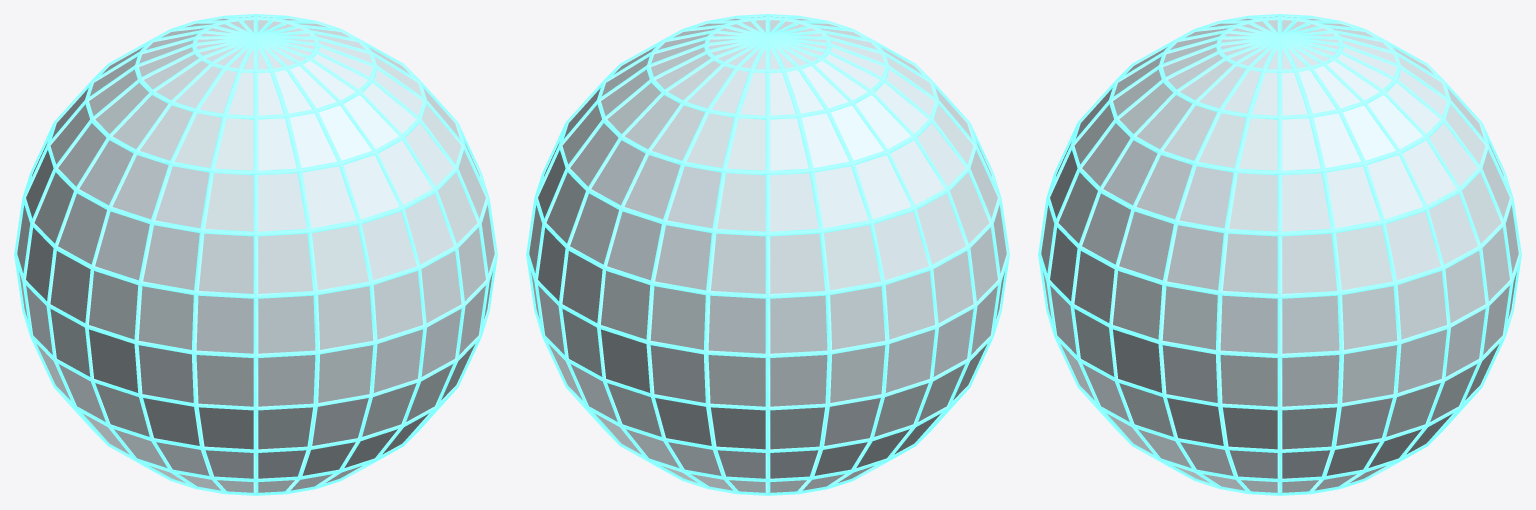
Rendered from rader.glb.
3 views of the same model, side by side, from view 1: azimuth 30°, elevation 25°; view 2: azimuth 150°, elevation 25°; view 3: azimuth 270°, elevation 25° (orthographic).
Visible parts, largest first — view 1: 球.001, 球; view 2: 球.001, 球; view 3: 球.001, 球.
Part boxes in pixels (x1,y1,x2,y2): 球.001: (17,16,494,492); 球: (14,14,497,495); 球.001: (529,16,1006,492); 球: (526,14,1009,495); 球.001: (1041,16,1518,492); 球: (1038,14,1521,495).
Bounding box in the file's own units: 2.03 × 2.03 × 2.03.
